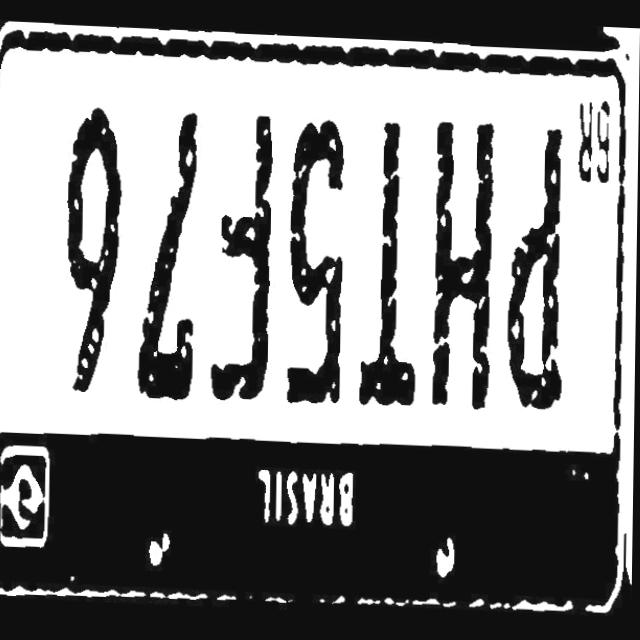5: (284, 110, 354, 426)
6: (52, 91, 125, 401)
7: (133, 90, 210, 399)
f: (211, 86, 285, 403)
h: (432, 127, 509, 422)
p: (508, 146, 569, 420)
t: (355, 112, 431, 423)
